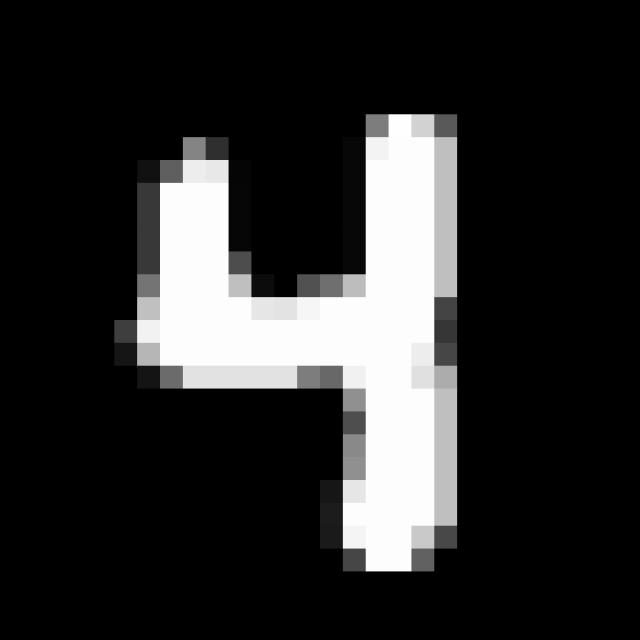four -4-: (119, 85, 488, 588)
